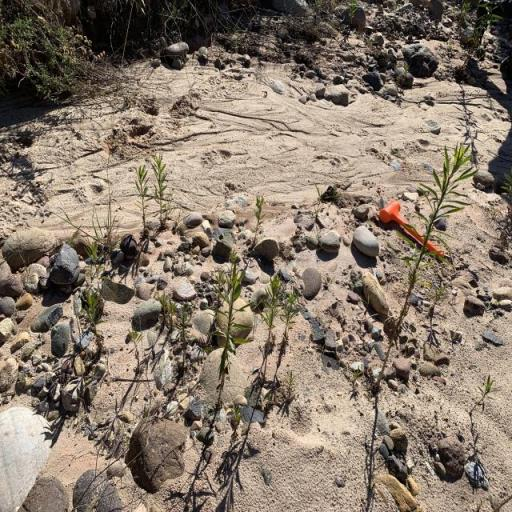mallet: (378, 196, 446, 260)
